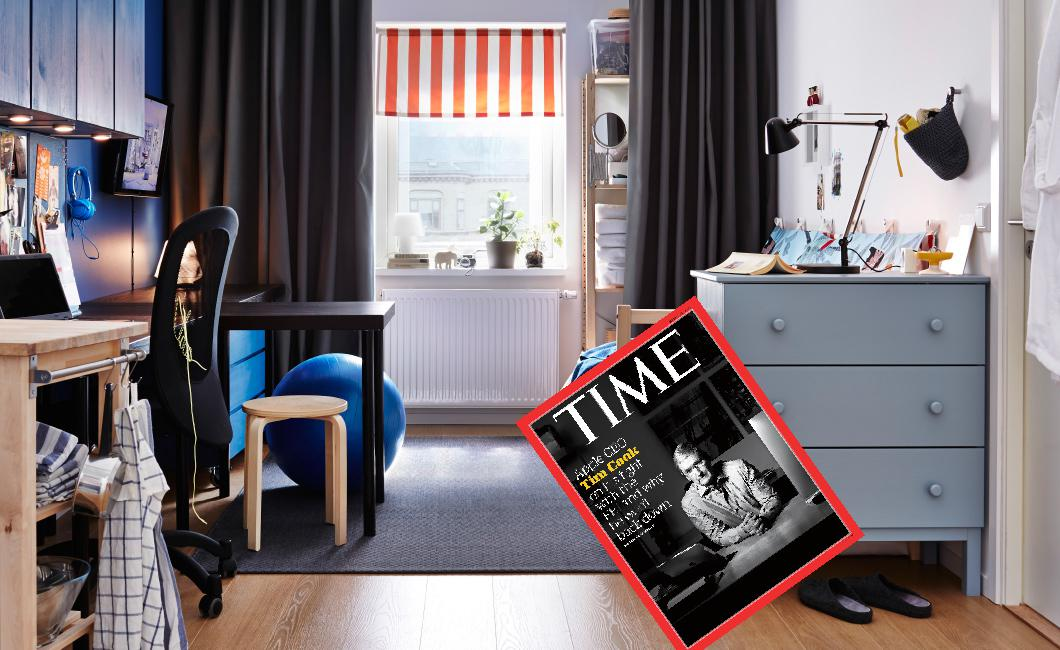times: (512, 293, 863, 645)
